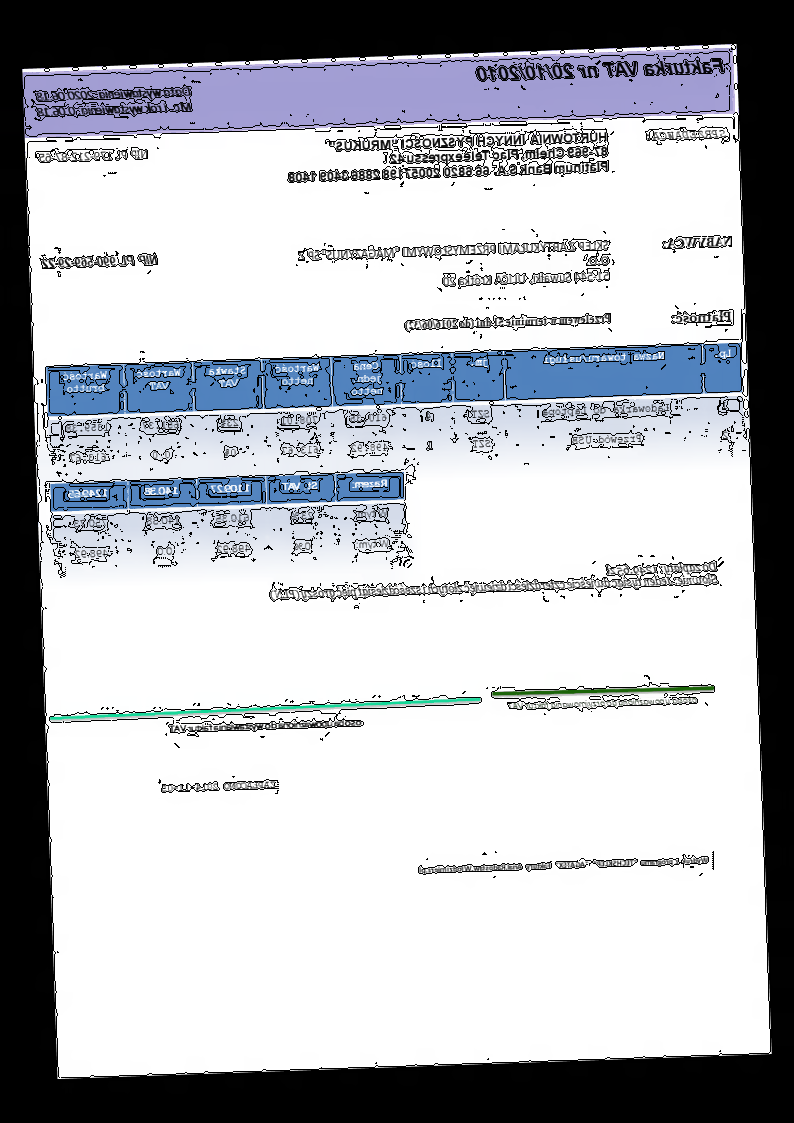Table: (45, 340, 747, 480), (49, 469, 409, 575)
TextBox: (267, 558, 721, 604), (284, 127, 611, 188), (298, 238, 611, 294), (474, 55, 728, 86), (415, 853, 711, 877), (30, 83, 196, 119), (404, 310, 614, 333), (168, 715, 366, 736), (505, 693, 700, 714), (41, 251, 160, 272), (39, 145, 152, 166), (160, 778, 278, 794), (644, 125, 731, 143), (661, 233, 735, 251), (670, 307, 733, 325)
